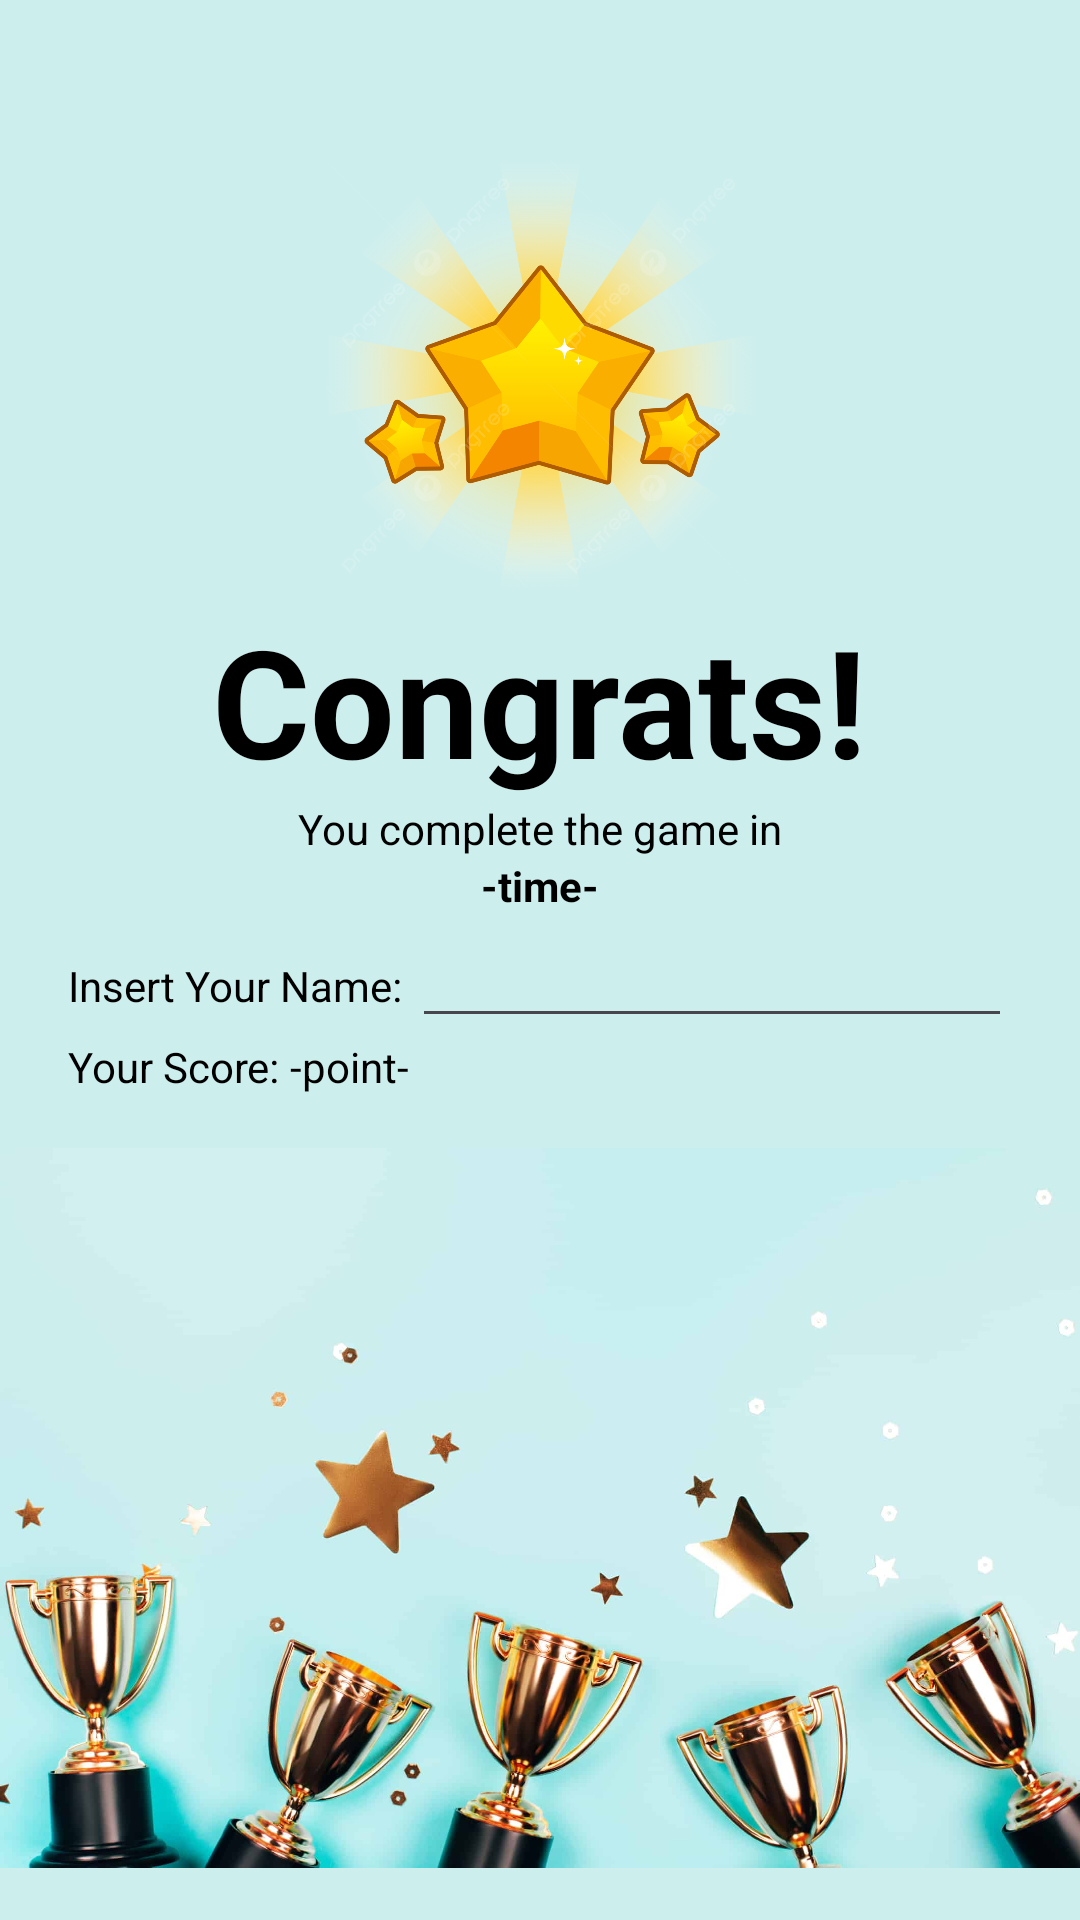

Named icons in this screenshot (1080 x 1920) and their centers, [x,y]:
star: [542,377]
